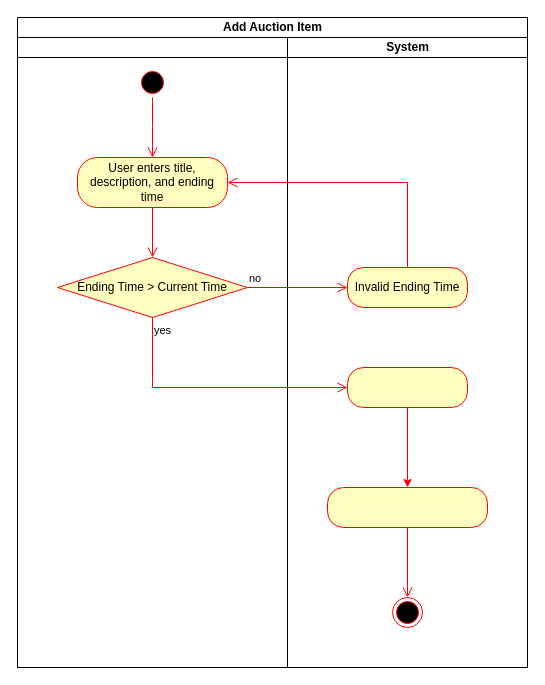
Image size: 545x685. Some labels were removed from this diagram. Here are the shapes that lost their labels. From the top down, the box of each, then its label:
(16, 36, 288, 668): User
(346, 366, 468, 408): System stores the auction information
(326, 486, 488, 528): System displays item info screen for new item
